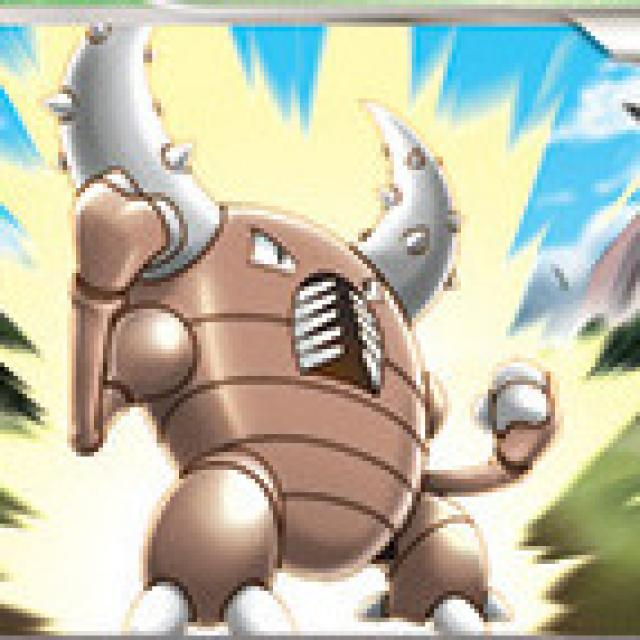Pinsir: (78, 86, 461, 640)
